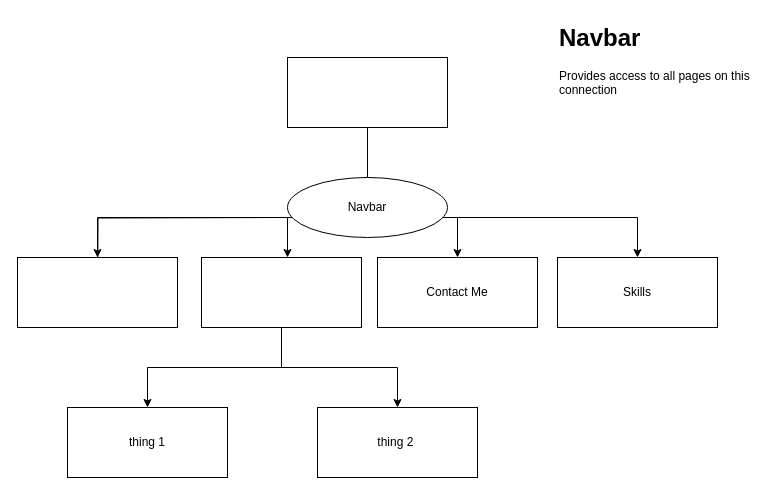
This 775x495 diagram has some shape labels left out. Here are the shapes that lost their labels. From the top down, the centre of each, then its label:
the point at 367,92: Home
the point at 97,292: About me
the point at 281,292: Projects
